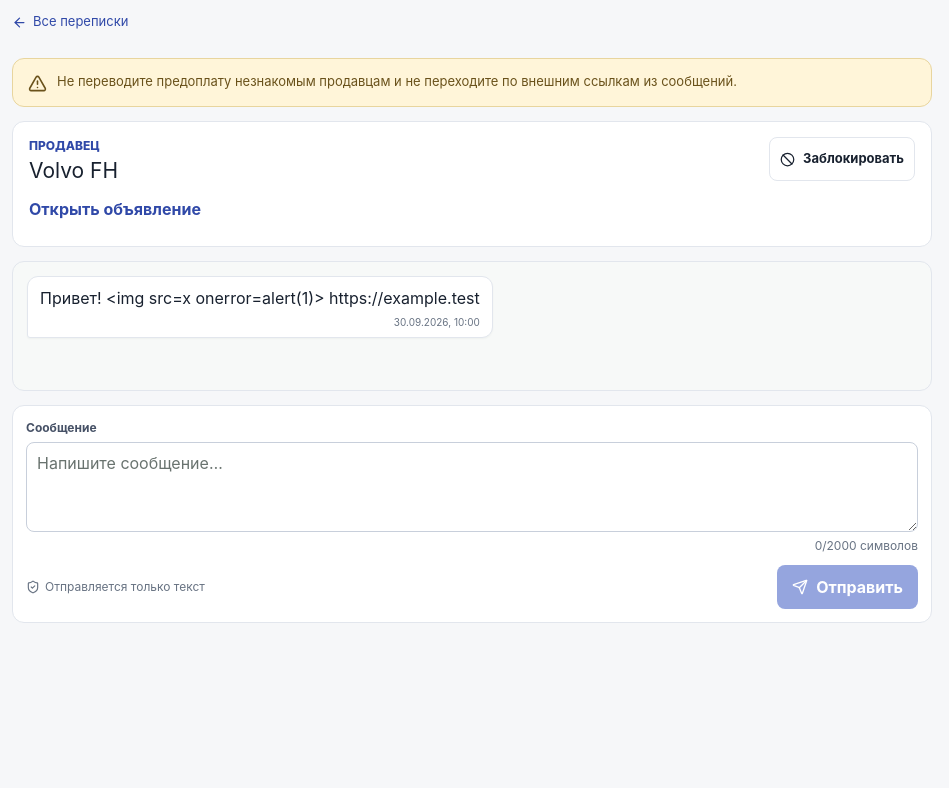
Test: ConversationThreadView › confirms a block action and disables sending once blocked
What coordinates should you click on to do the following:
click the button "Заблокировать"
I would click on:
 (842, 159)
Its box is [769, 137, 915, 181].
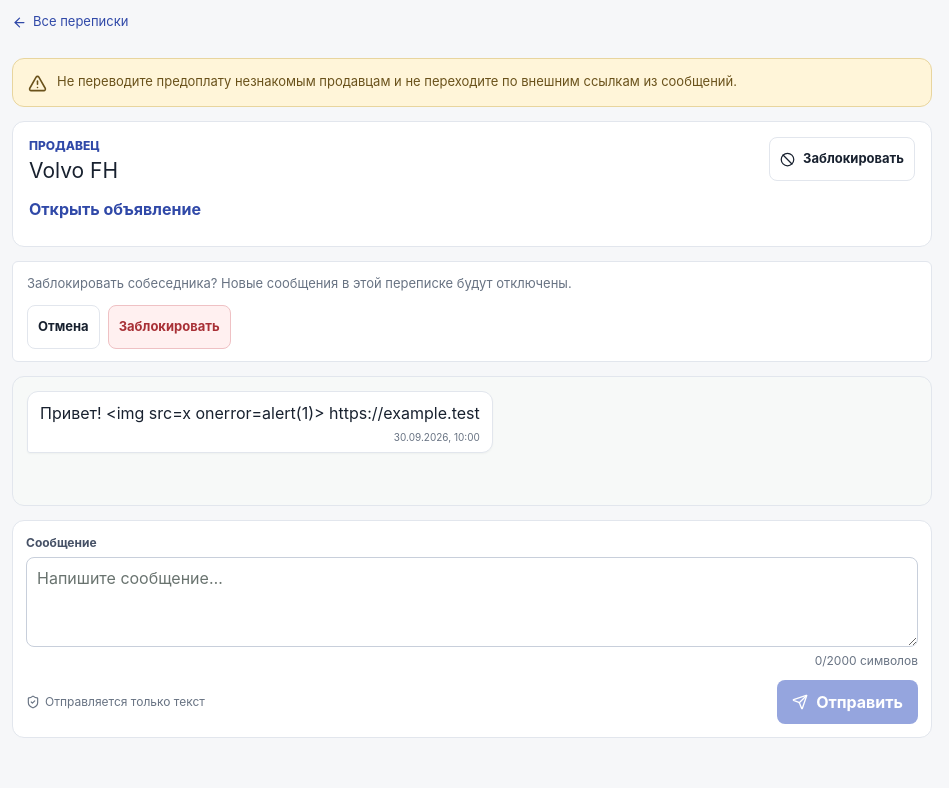
expect the element named "Подтверждение блокировки" is shown: met, box [12, 261, 932, 362]
What coordinates should you click on to do the following:
click the 2nd button "Заблокировать"
I would click on:
 (169, 327)
Its box is [108, 305, 231, 349].
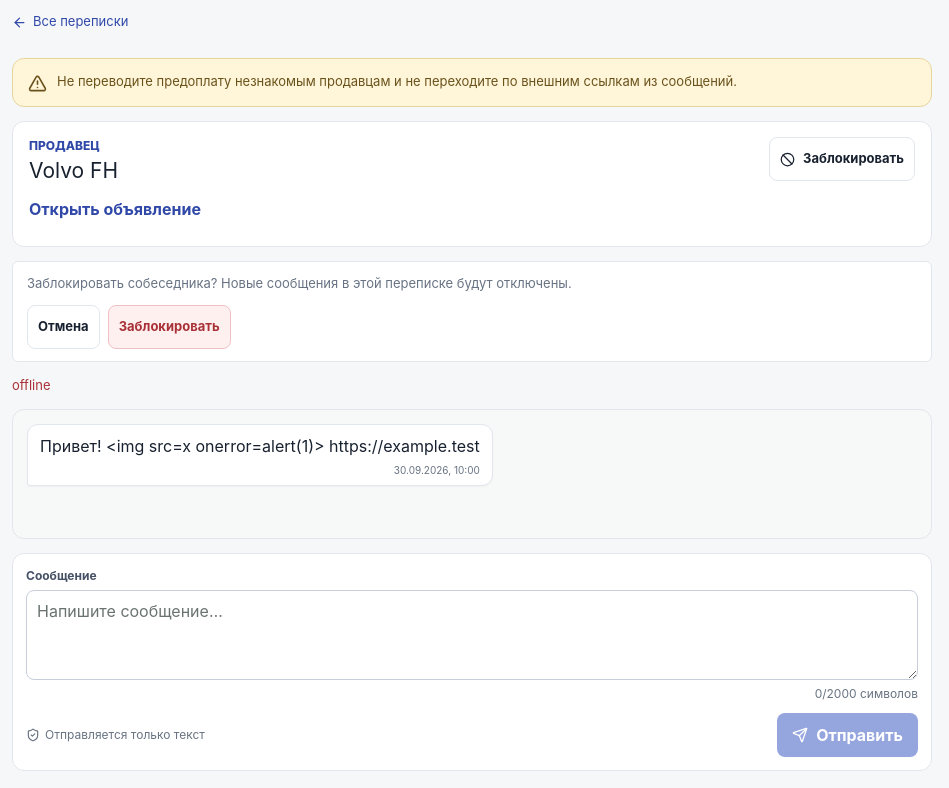
expect the text "offline" is shown: met, box [12, 377, 50, 393]
What coordinates should you click on to do the following:
click the 2nd button "Заблокировать"
I would click on:
 (169, 327)
Its box is [108, 305, 231, 349].
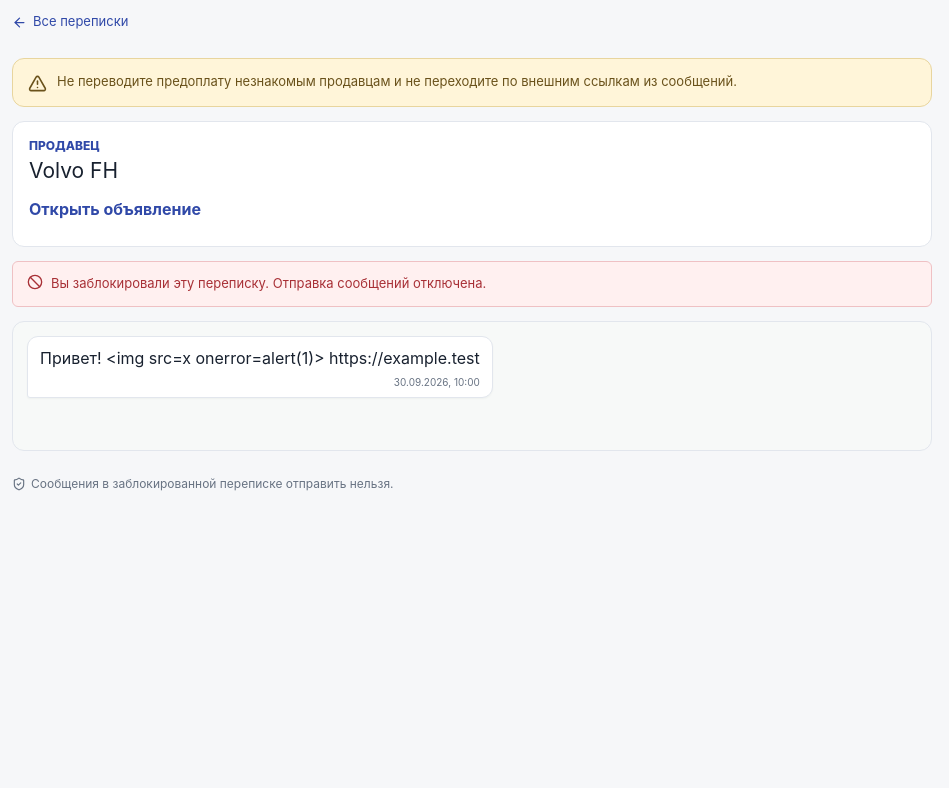
expect the text "Вы заблокировали эту переписку" is shown: met, box [51, 275, 486, 291]
expect the text box named "message" is gone: met
